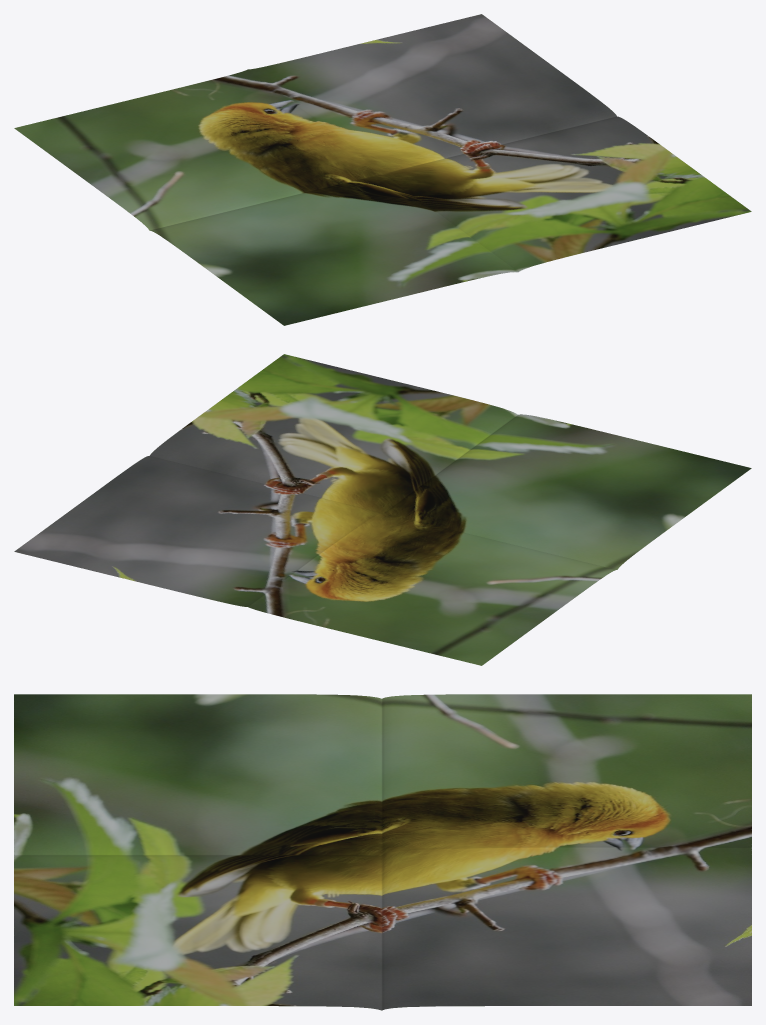
The picture shows the model from 3 angles, top to bottom: view 1: azimuth 30°, elevation 25°; view 2: azimuth 150°, elevation 25°; view 3: azimuth 270°, elevation 25°; orthographic projection. The views are drawn at different scales.
Parts seen in each view (by area): view 1: Plane; view 2: Plane; view 3: Plane.
Part boxes in pixels (<box>): Plane: <box>14,14,751,325</box>; Plane: <box>14,354,751,665</box>; Plane: <box>14,694,751,1010</box>.
Size of the model in its own units: 20 by 0.2592 by 20.
1 material, 1 textured.
